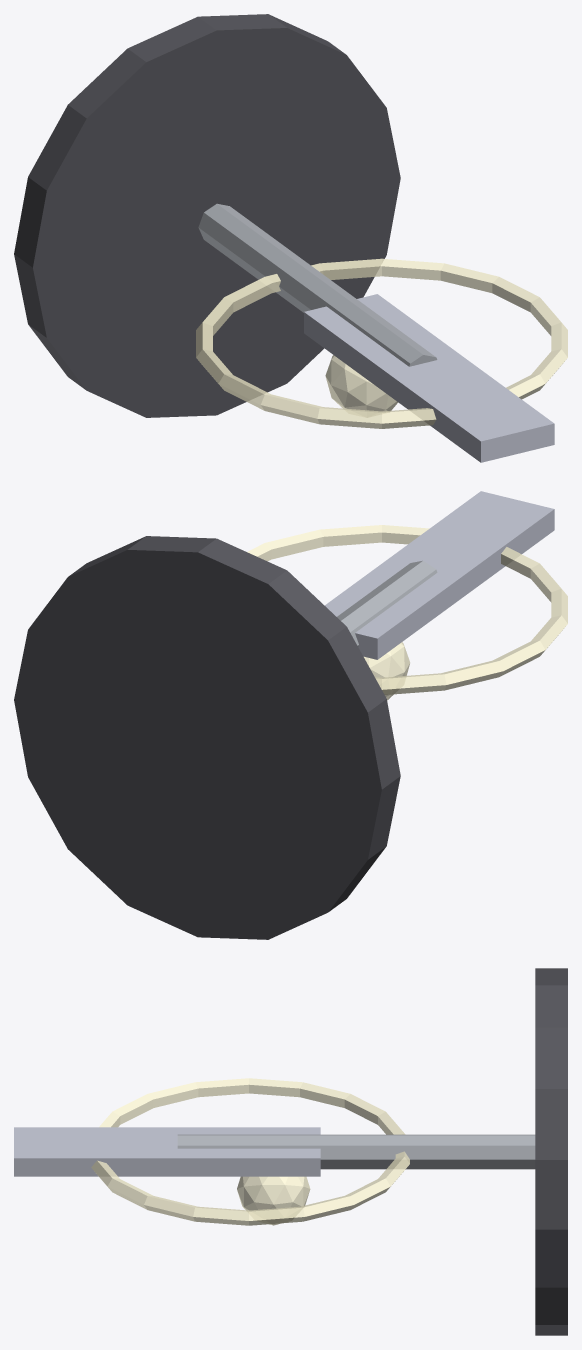
Rendered from 06_item_weapon_finish_overlay_6.glb.
3 renders of one model, top to bottom at view 1: azimuth 30°, elevation 25°; view 2: azimuth 150°, elevation 25°; view 3: azimuth 270°, elevation 25°, orthographic. The views are drawn at different scales.
Parts seen in each view (by area): view 1: display_base, finish_blade_preview, finish_orbit, weapon_handle_preview, rarity_gem; view 2: display_base, finish_blade_preview, finish_orbit, weapon_handle_preview, rarity_gem; view 3: finish_blade_preview, display_base, finish_orbit, weapon_handle_preview, rarity_gem.
Boxes of the visible parts, <box> form: display_base: <box>14,14,400,417</box>; finish_blade_preview: <box>304,294,554,462</box>; finish_orbit: <box>196,258,567,428</box>; weapon_handle_preview: <box>198,203,437,366</box>; rarity_gem: <box>325,355,397,411</box>; display_base: <box>14,536,400,939</box>; finish_blade_preview: <box>325,491,554,659</box>; finish_orbit: <box>247,525,567,694</box>; weapon_handle_preview: <box>337,560,437,646</box>; rarity_gem: <box>364,642,410,700</box>; finish_blade_preview: <box>14,1127,320,1176</box>; display_base: <box>535,968,567,1335</box>; finish_orbit: <box>91,1078,409,1225</box>; weapon_handle_preview: <box>177,1134,535,1169</box>; rarity_gem: <box>237,1176,310,1225</box>.
Size of the model in its own units: 0.9 by 0.9 by 1.36.
